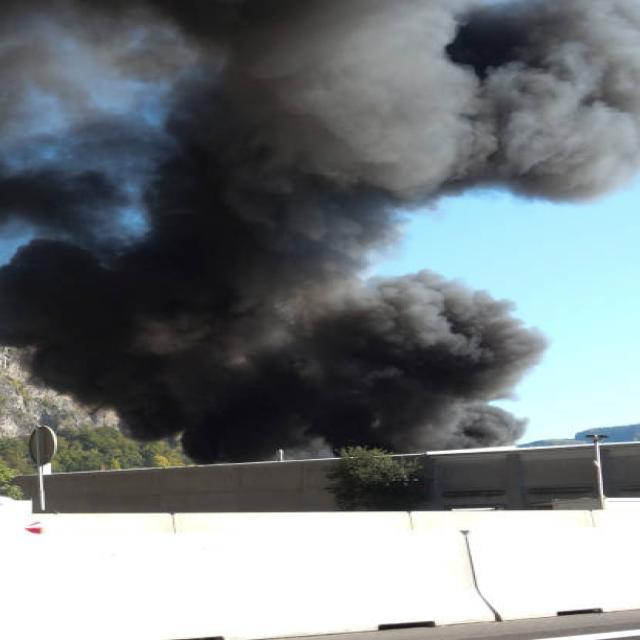Smoke: (6, 0, 640, 429)
